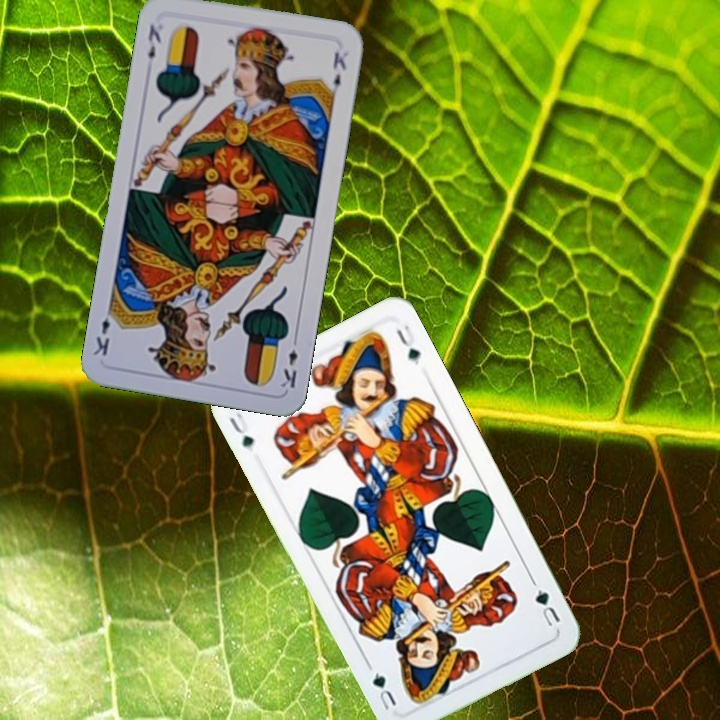EK: (276, 332, 301, 391), (144, 20, 164, 62)
GU: (531, 584, 563, 630), (225, 408, 257, 450)
